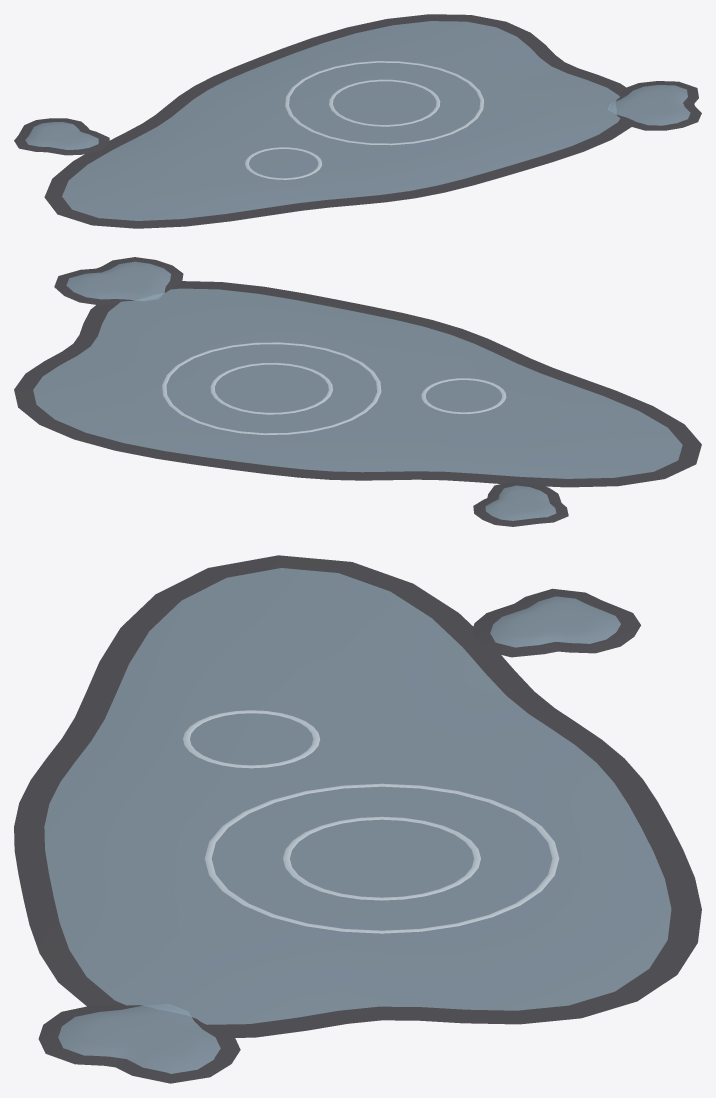
The model's file is puddle.glb.
3 views of the same model, one above another, from view 1: azimuth 30°, elevation 25°; view 2: azimuth 150°, elevation 25°; view 3: azimuth 270°, elevation 25° (orthographic). The views are drawn at different scales.
Parts seen in each view (by area): view 1: puddle; view 2: puddle; view 3: puddle.
Boxes of the visible parts, bbox=[...] form: puddle: bbox=[14, 14, 701, 228]; puddle: bbox=[14, 257, 701, 526]; puddle: bbox=[14, 555, 701, 1083].
Bounding box in the file's own units: 2.88 × 0.0168 × 1.58.
